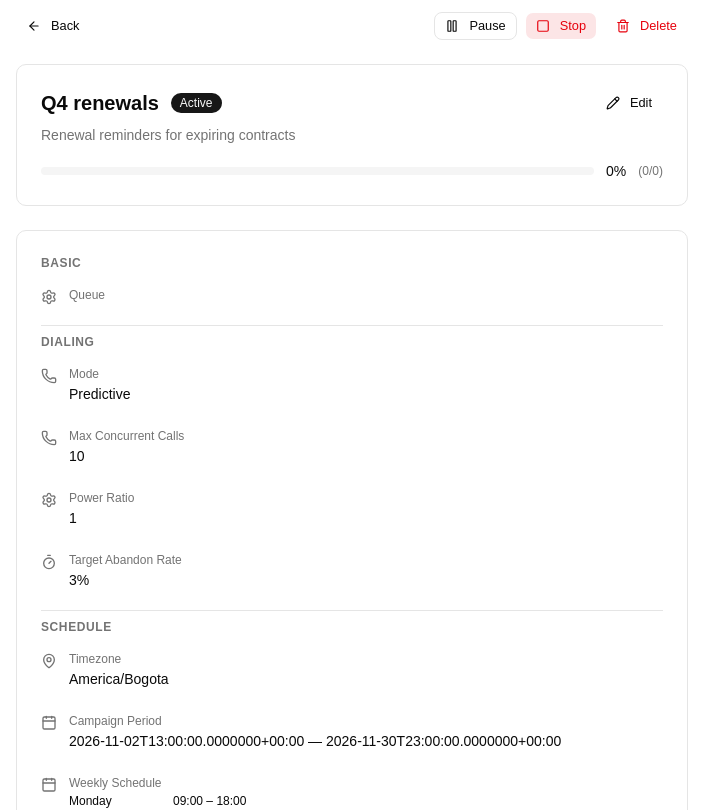
Test: CampaignDetailPage edit form › CampaignDetailPage_ShouldRefuseToSave_WhenNoQueueIsChosen
Expected: the heading "Q4 renewals" is shown, 41,89 -> 159,117
What coordinates should you click on to do the following:
click the button "Edit"
I would click on:
 (629, 103)
Its box is 595,89 -> 663,117.
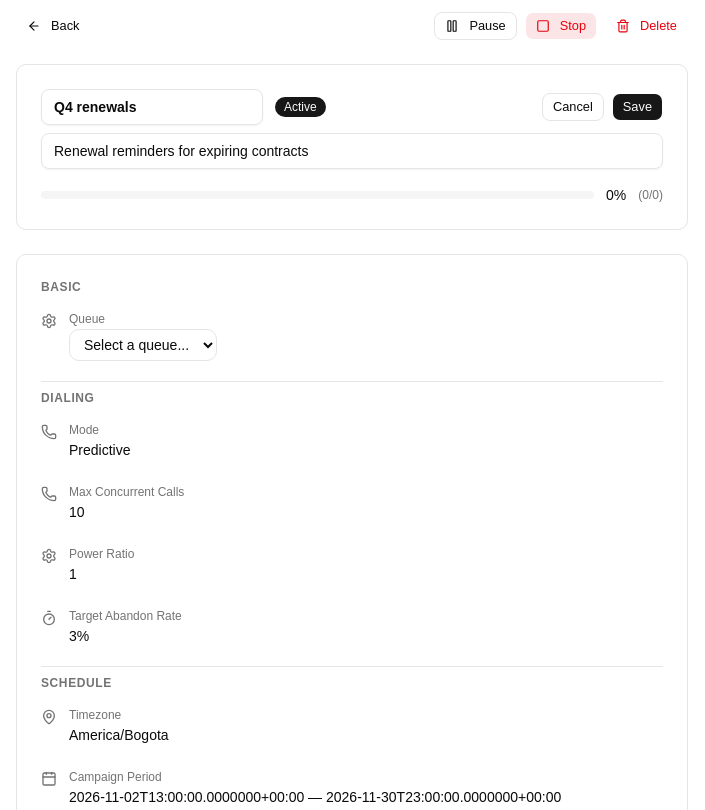
Expected: the field showing "Q4 renewals" next to "Active" is shown, 41,89 -> 263,125
What coordinates should you click on to do the following:
click the button "Save"
I would click on:
 (637, 107)
Its box is 612,93 -> 663,121.
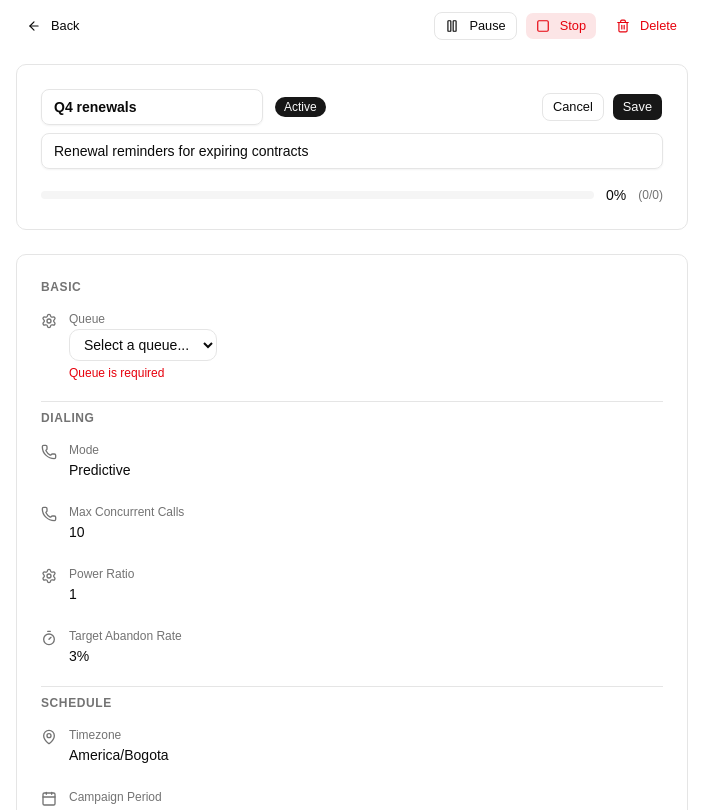
Expected: the message with test id "campaign-edit-queue-error" reads "Queue is required", 69,366 -> 164,380
